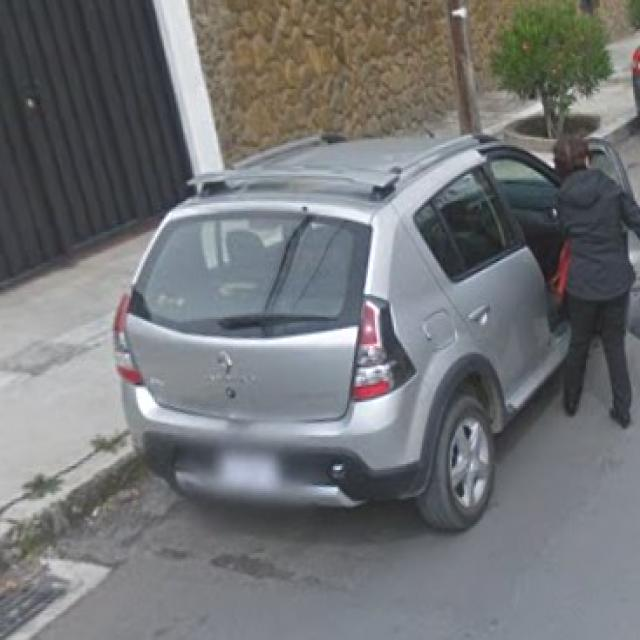car: (116, 167, 616, 535)
